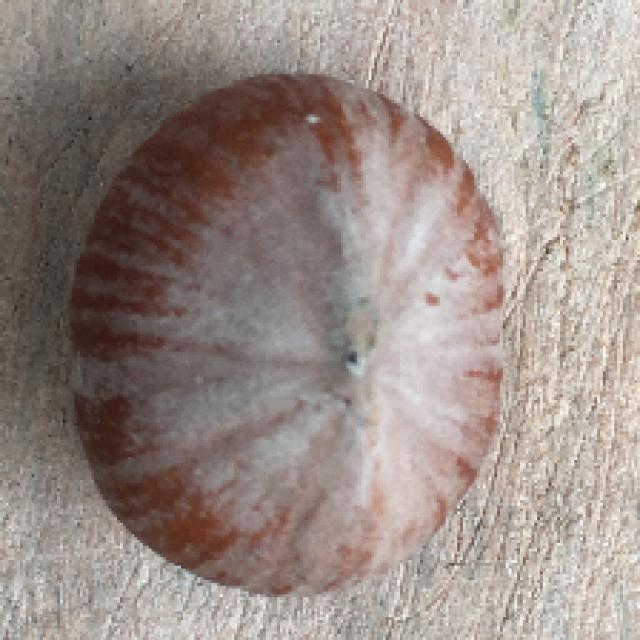hazelnut: (59, 56, 520, 608)
